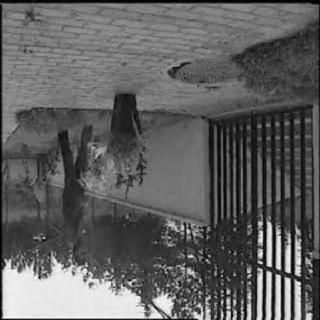Fire: (78, 156, 126, 202)
